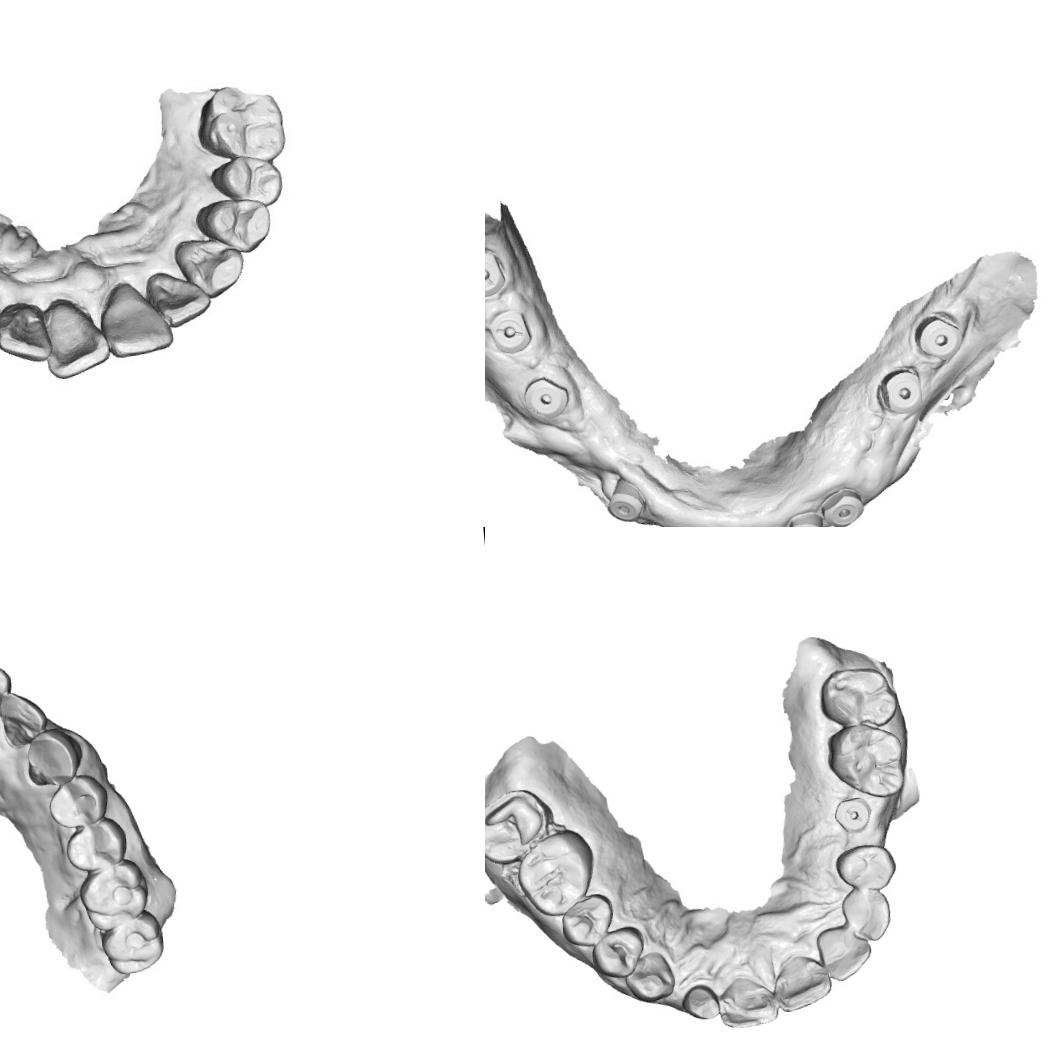canine: (169, 234, 247, 303), (22, 725, 84, 788), (836, 884, 894, 944), (620, 948, 676, 1005)
crown: (679, 978, 722, 1024)
implant: (514, 368, 574, 429), (910, 306, 962, 364), (872, 362, 924, 416), (600, 480, 648, 526), (821, 485, 867, 527), (780, 508, 825, 527)
implant_minus: (485, 301, 536, 360), (830, 793, 875, 836), (485, 243, 509, 302)
incisor: (42, 294, 110, 381), (101, 280, 172, 356), (766, 949, 835, 1014), (812, 922, 874, 984), (716, 972, 780, 1031), (152, 268, 211, 326), (0, 688, 49, 748), (0, 299, 47, 360), (0, 657, 14, 735)
molar: (512, 824, 599, 922), (202, 80, 290, 168), (822, 720, 909, 803), (815, 661, 902, 732), (485, 785, 558, 867), (76, 856, 151, 931), (98, 910, 167, 977)
premolar: (190, 192, 276, 257), (204, 150, 284, 212), (44, 769, 110, 830), (62, 816, 129, 874), (832, 840, 899, 894), (557, 890, 616, 950), (588, 923, 649, 981)
